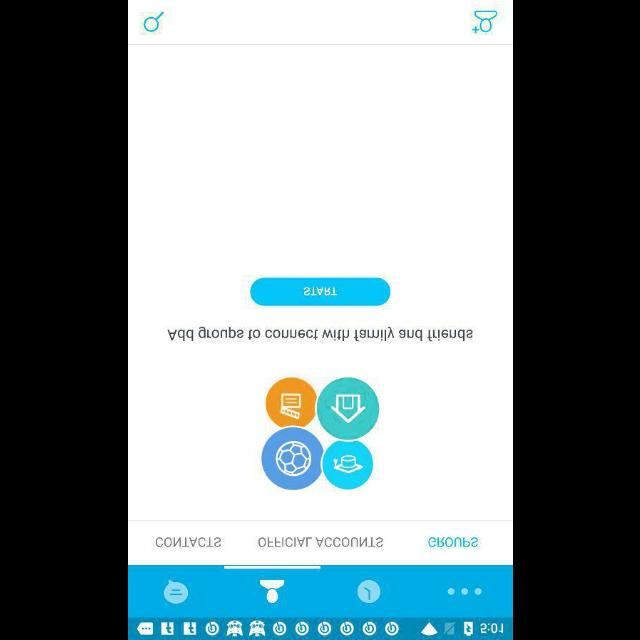icon: (471, 10, 497, 34), (258, 579, 284, 603), (164, 578, 188, 604), (142, 12, 164, 32), (446, 586, 482, 596)
image: (260, 376, 380, 490), (356, 579, 380, 603)
multitab: (128, 564, 512, 616)
text: (168, 326, 472, 342), (258, 536, 382, 548), (156, 536, 220, 548), (427, 536, 477, 548)
textbutton: (250, 276, 390, 306)
uppertaskbar: (128, 617, 512, 639)
